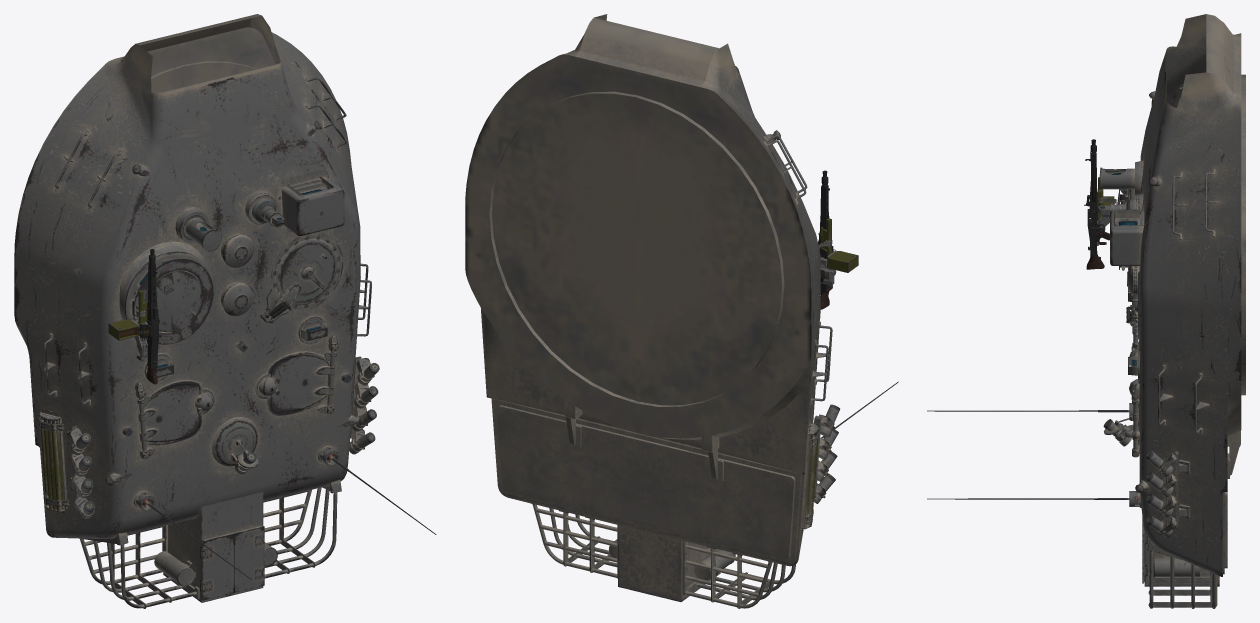
File: Turret_01.glb
3 renders of one model, left to right at view 1: azimuth 30°, elevation 25°; view 2: azimuth 150°, elevation 25°; view 3: azimuth 270°, elevation 25°, orthographic. The views are drawn at different scales.
Parts seen in each view (by area): view 1: set_0_group_0; view 2: set_0_group_0; view 3: set_0_group_0.
Boxes of the visible parts, <box> form: set_0_group_0: <box>14,14,436,608</box>; set_0_group_0: <box>465,14,898,608</box>; set_0_group_0: <box>927,14,1245,608</box>.
Bounding box in the file's own units: 3.29 × 5.05 × 2.76.
1 material, 1 textured.
